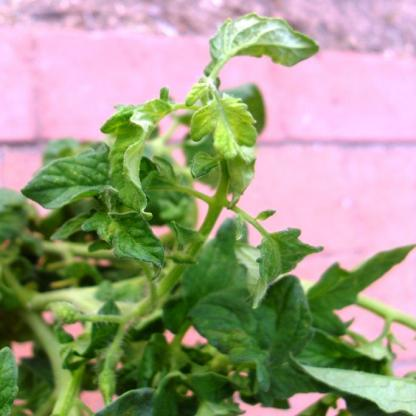tomato leaf yellow virus: (94, 88, 173, 224), (187, 91, 270, 204), (193, 11, 330, 76), (245, 216, 331, 316), (18, 146, 125, 222)
